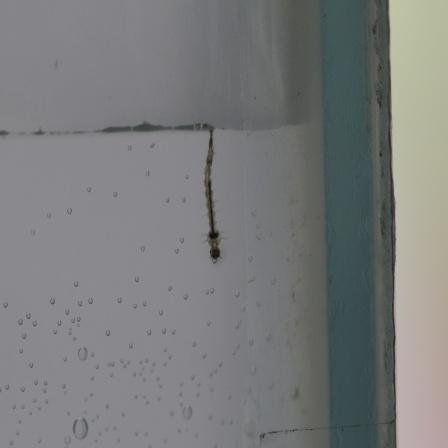Jentik-Nyamuk: (197, 125, 227, 266)
